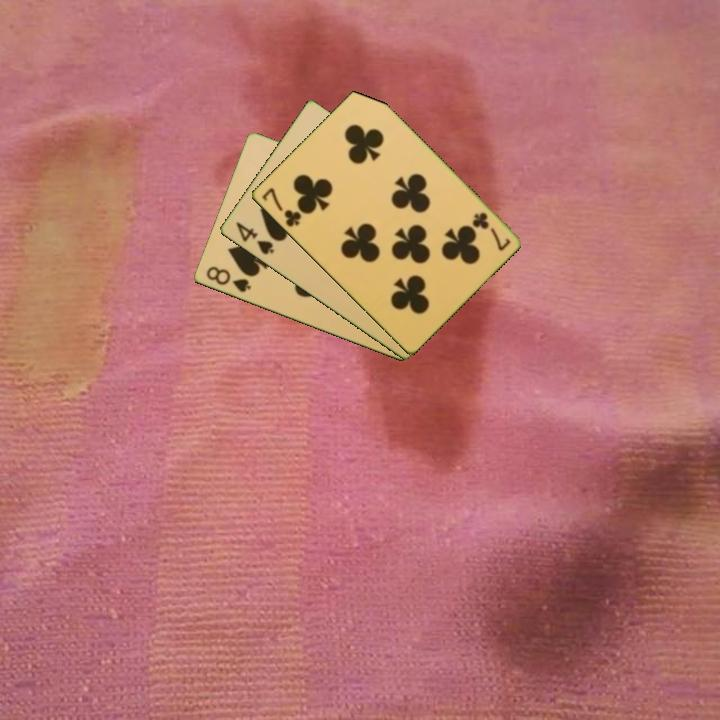4s: (232, 218, 277, 258)
7c: (258, 184, 304, 230), (468, 209, 513, 254)
8s: (202, 263, 253, 295)
